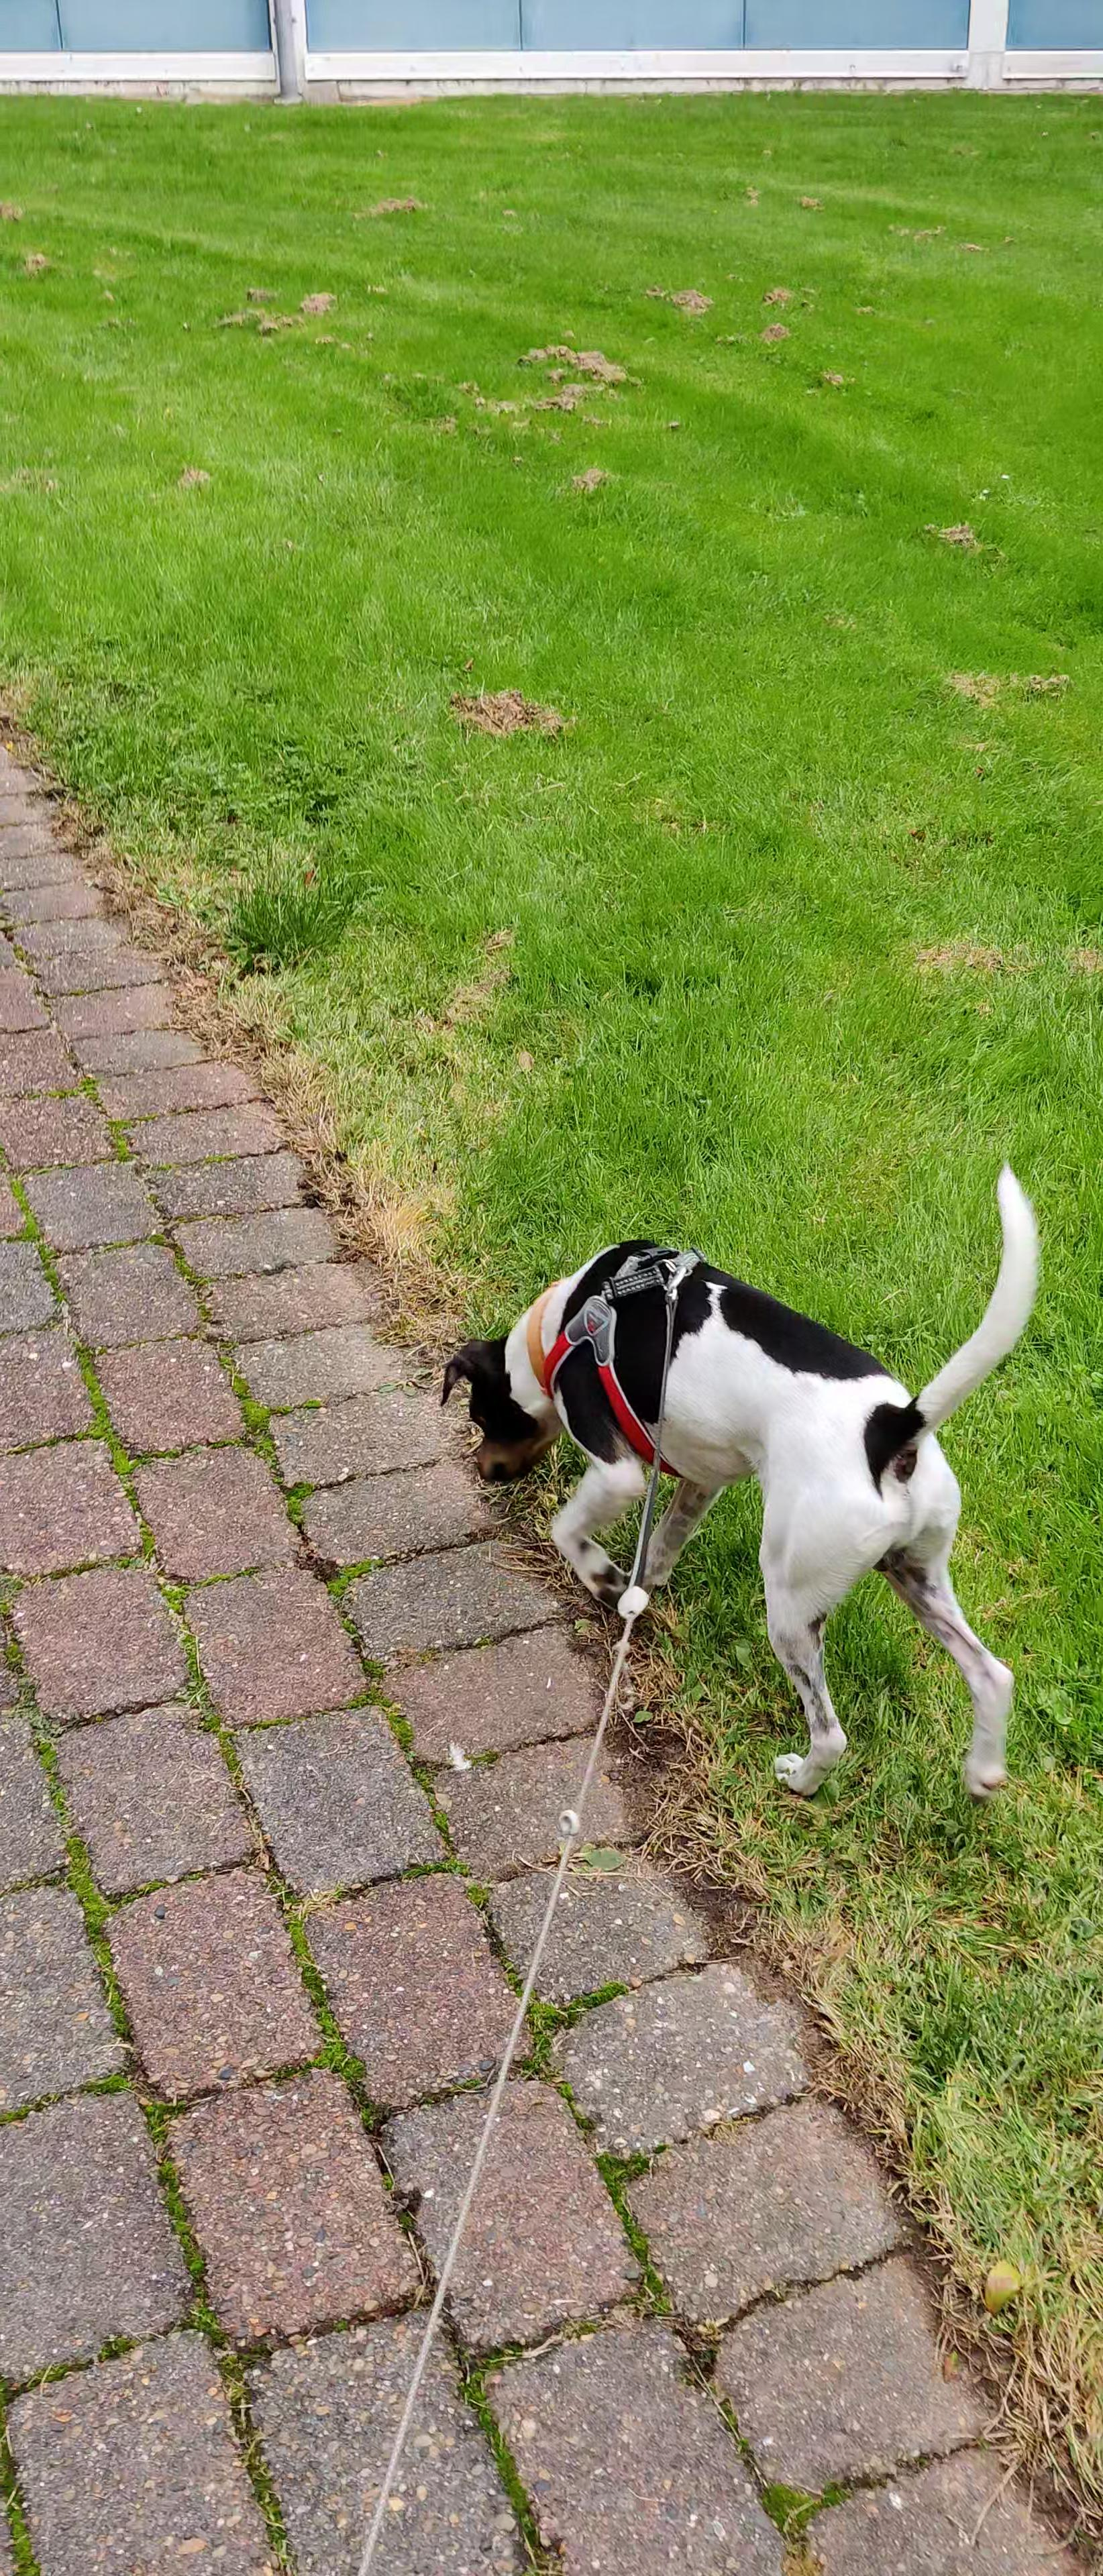Dog: (426, 1152, 1044, 1802)
